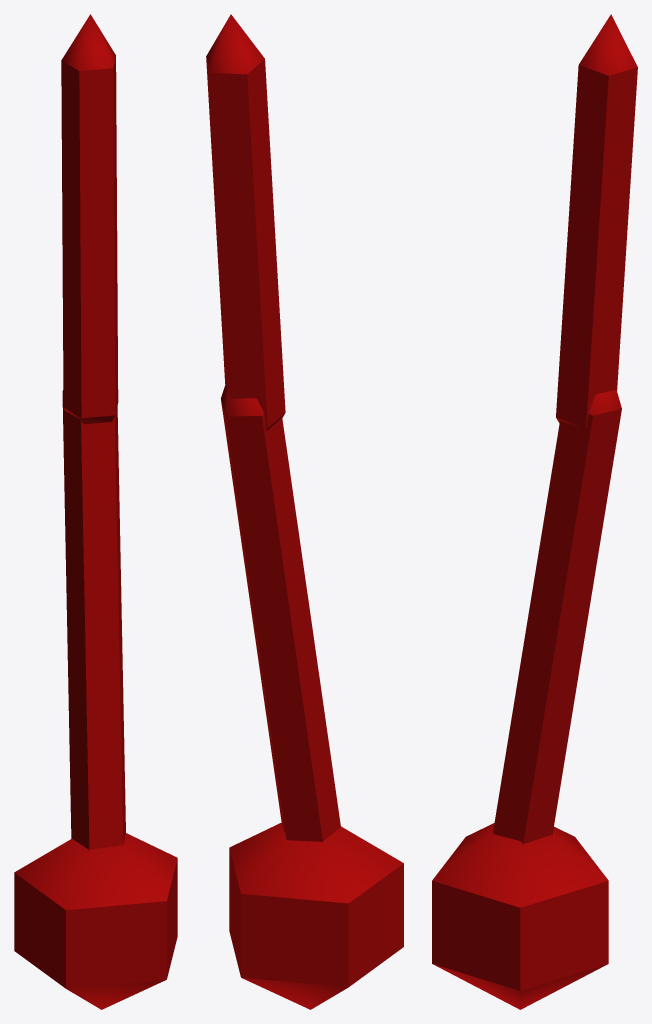
Rendered from SM_Env_Tree_Banana_03_Collision.glb.
3 views of the same model, side by side, from view 1: azimuth 30°, elevation 25°; view 2: azimuth 150°, elevation 25°; view 3: azimuth 270°, elevation 25° (orthographic). The views are drawn at different scales.
Visible parts, largest first — view 1: SM_Env_Tree_Banana_03_Collision; view 2: SM_Env_Tree_Banana_03_Collision; view 3: SM_Env_Tree_Banana_03_Collision.
Part boxes in pixels (x1=…): SM_Env_Tree_Banana_03_Collision: x1=14, y1=14, x2=177, y2=1009; SM_Env_Tree_Banana_03_Collision: x1=206, y1=14, x2=403, y2=1009; SM_Env_Tree_Banana_03_Collision: x1=432, y1=14, x2=637, y2=1009.
Size of the model in its own units: 0.8563 by 5.69 by 1.05.
